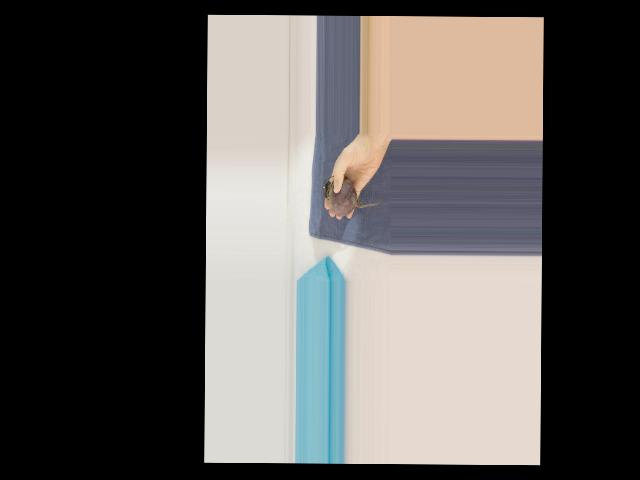beet: (322, 175, 380, 216)
